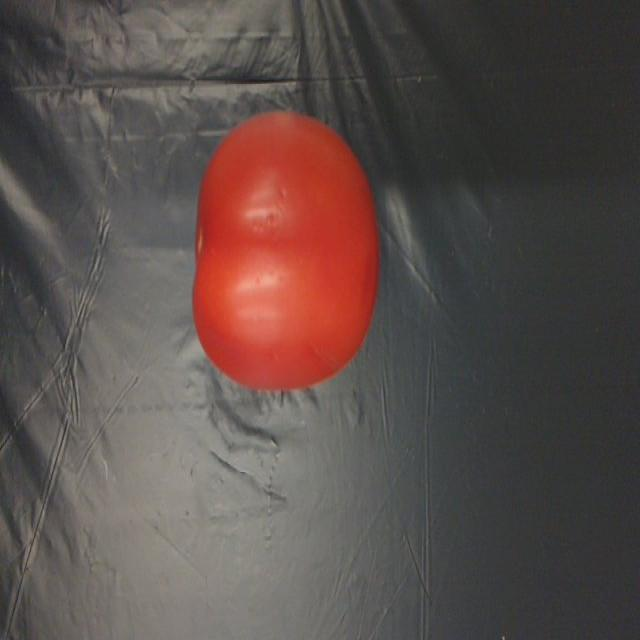kirmizi: (184, 105, 389, 390)
